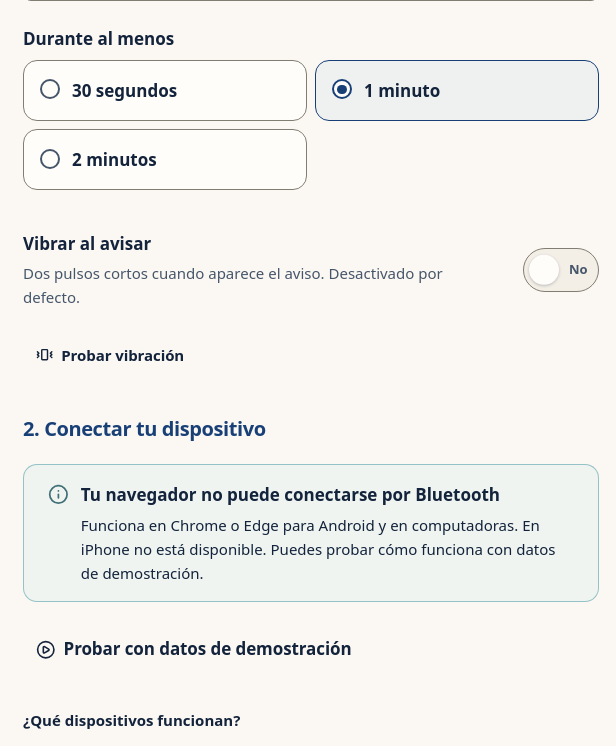
Monitor de pulso › vibración › si el navegador bloquea la vibración, lo dice
The image size is (616, 746).
(page scrolled)
Click the button "Probar vibración". click: (110, 355)
box: [23,333,197,377]
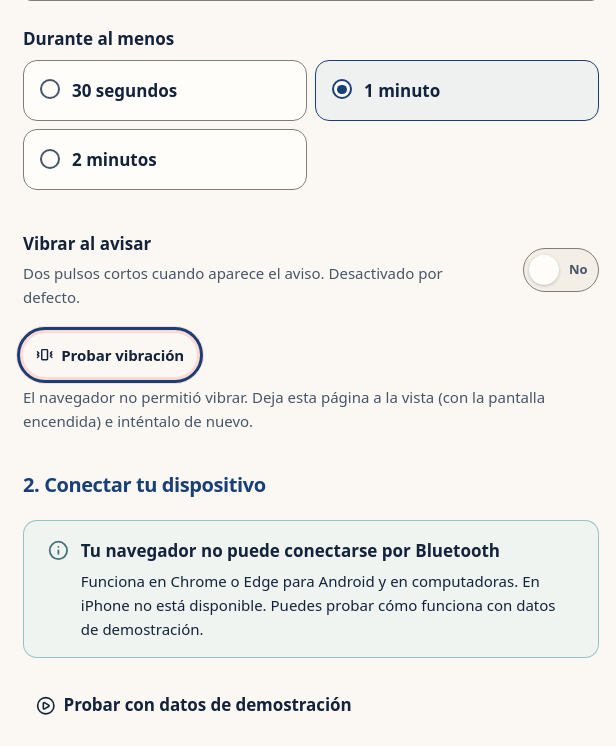
Check: the text "El navegador no permitió vibrar" is shown, box [23,387,545,431]
